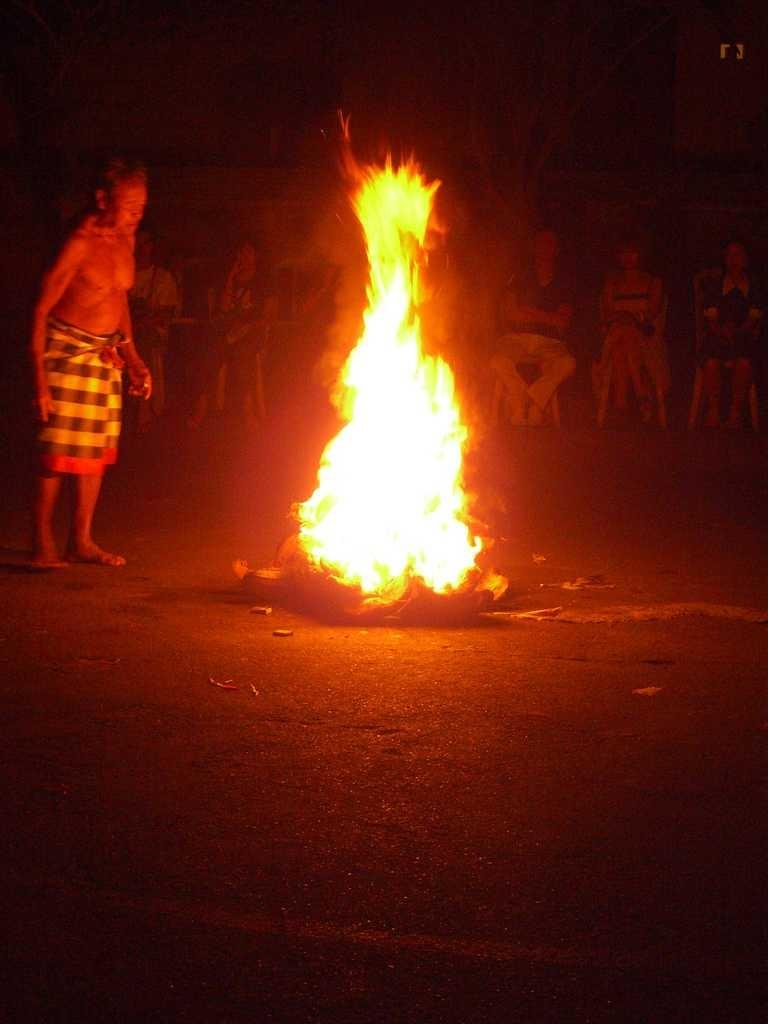smoke: (301, 137, 531, 616)
